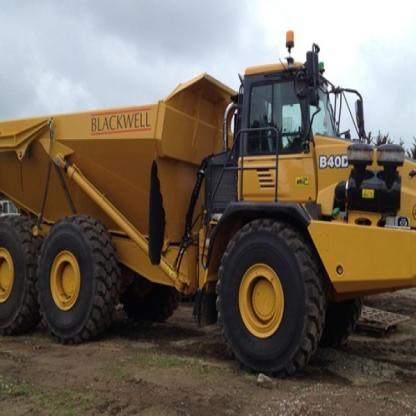dump_truck: (1, 44, 416, 388)
